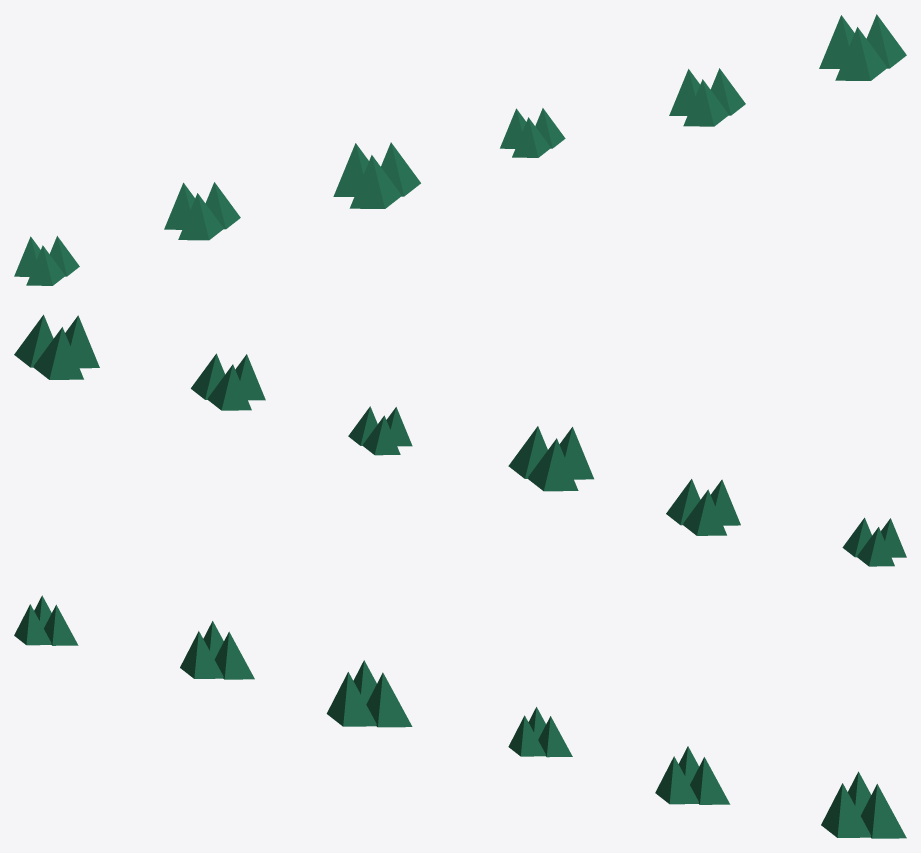
3 views of the same model, one above another, from view 1: azimuth 30°, elevation 25°; view 2: azimuth 150°, elevation 25°; view 3: azimuth 330°, elevation 25° (orthographic). The views are drawn at different scales.
Visible parts, largest first — view 1: 低矮山脚折叶_purple.001; view 2: 低矮山脚折叶_purple.001; view 3: 低矮山脚折叶_purple.001.
Part boxes in pixels (x1,y1,x2,y2): 低矮山脚折叶_purple.001: [14, 14, 906, 285]; 低矮山脚折叶_purple.001: [14, 314, 906, 566]; 低矮山脚折叶_purple.001: [14, 595, 906, 838].
Size of the model in its own units: 2.66 by 0.138 by 0.2291.
